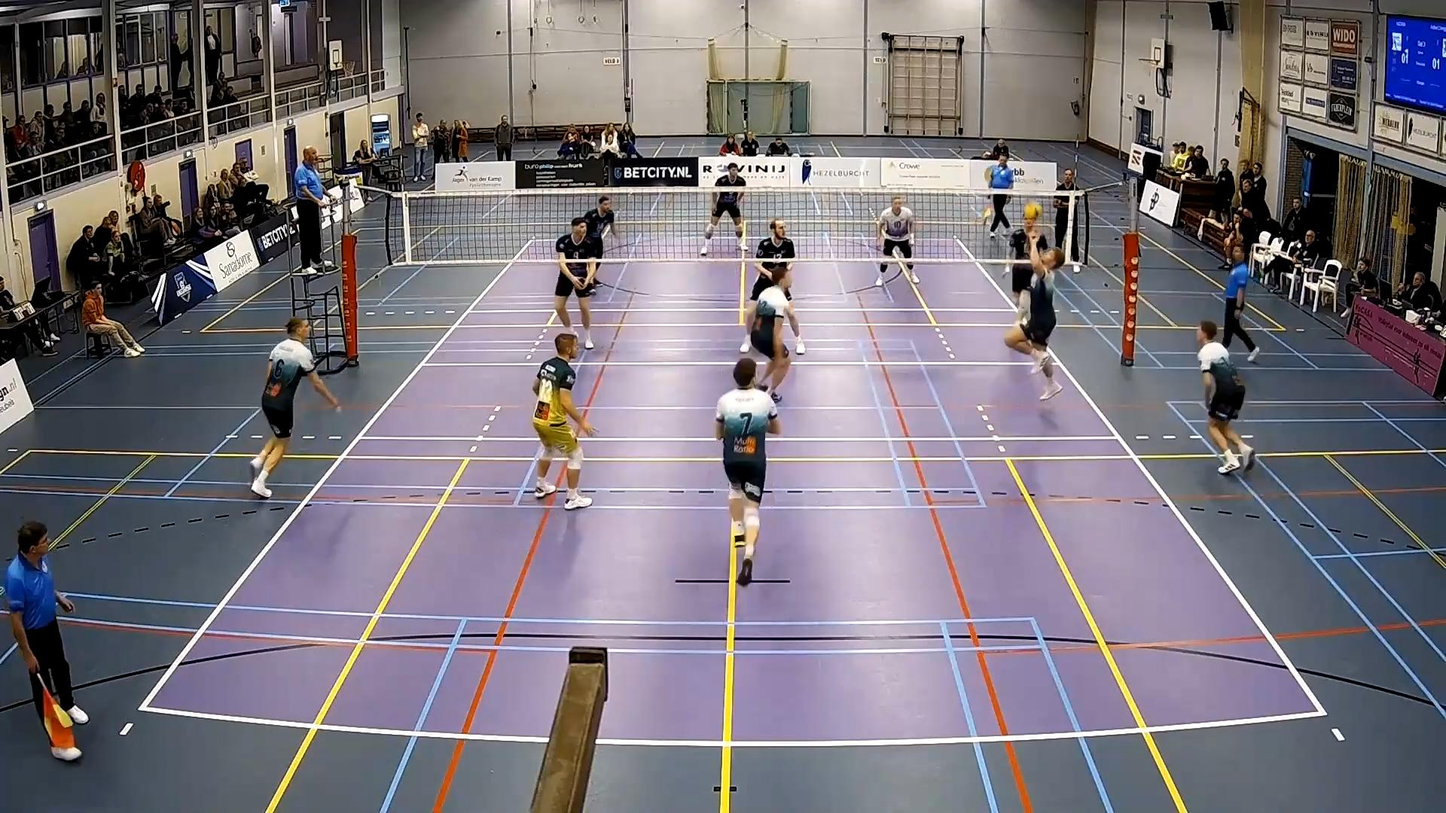alzata: (1008, 229, 1064, 397)
